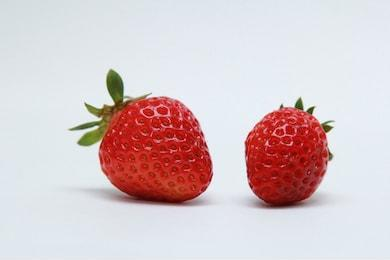Fresa: (92, 92, 216, 209), (240, 98, 335, 208)
